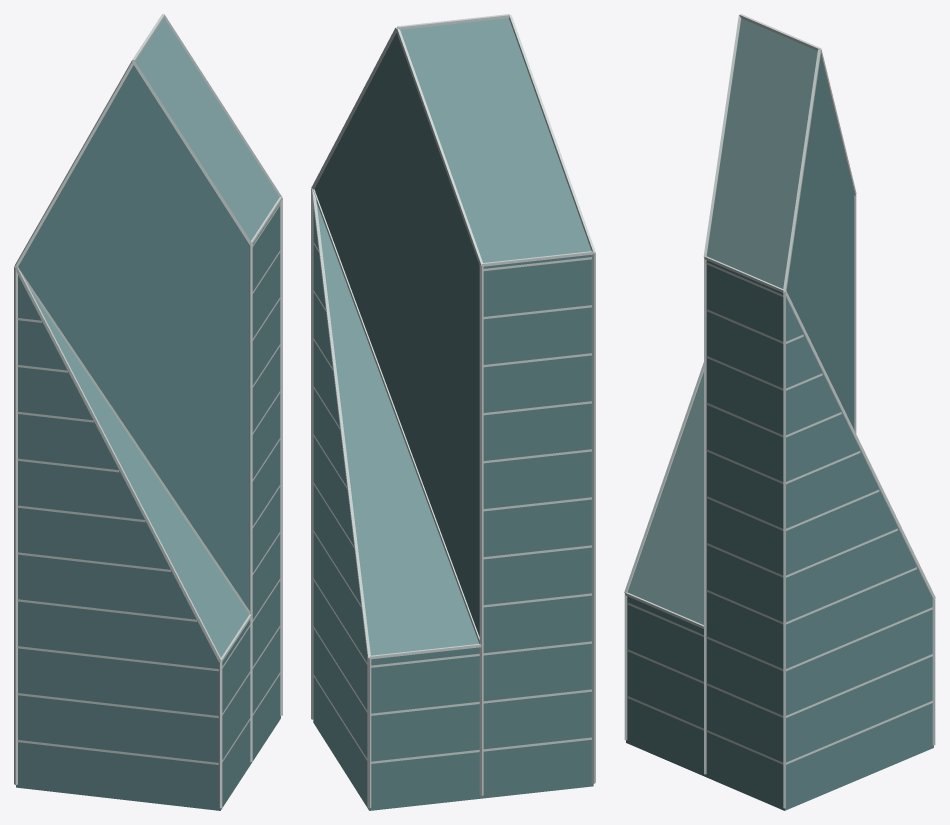
Rendered from dal-fountain-place.glb.
3 views of the same model, side by side, from view 1: azimuth 30°, elevation 25°; view 2: azimuth 150°, elevation 25°; view 3: azimuth 270°, elevation 25° (orthographic). The views are drawn at different scales.
Visible parts, largest first — view 1: Fountain Place; view 2: Fountain Place; view 3: Fountain Place.
Part boxes in pixels (x1,y1,x2,y2): Fountain Place: [14, 14, 282, 810]; Fountain Place: [311, 14, 595, 810]; Fountain Place: [624, 14, 935, 810].
Size of the model in its own units: 87.67 by 220 by 87.07.
